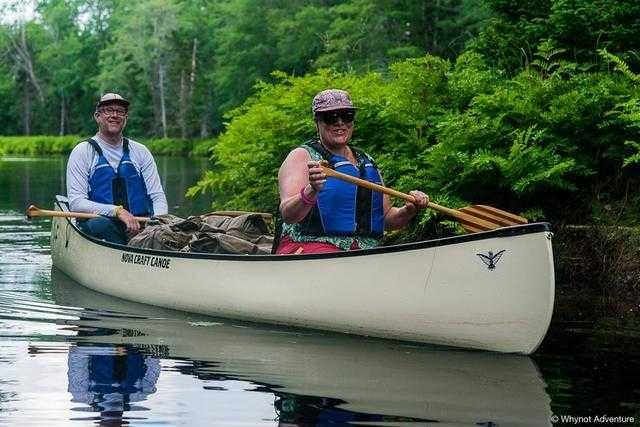kayak: (46, 197, 554, 354)
